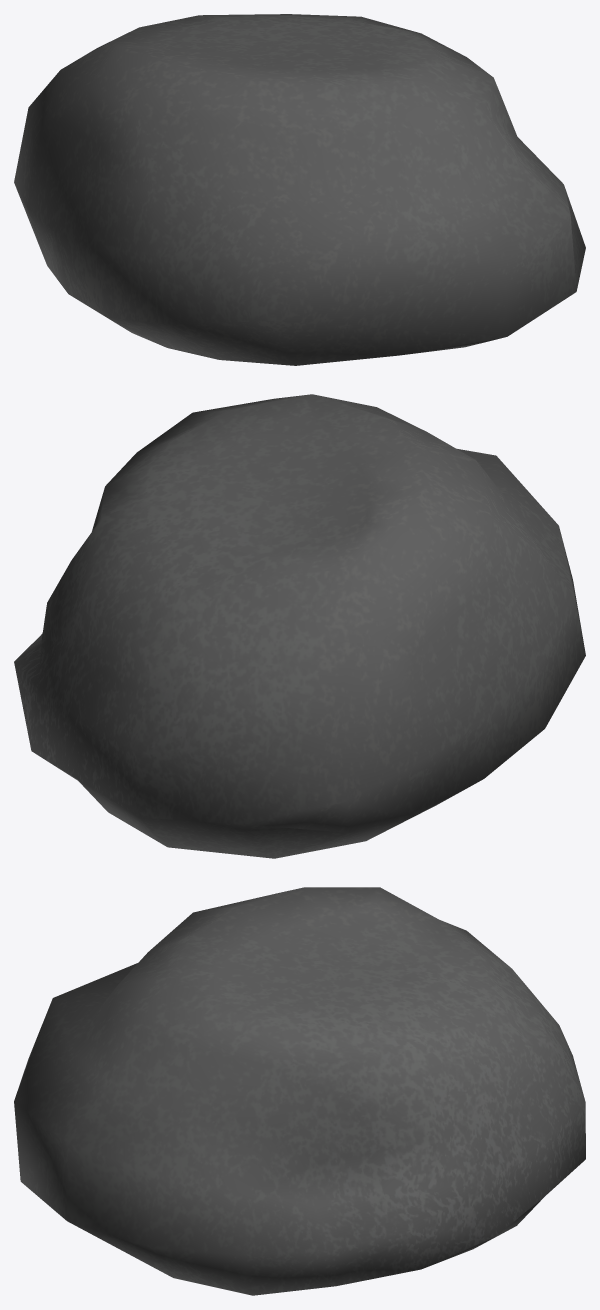
File: Rock4.fbx
3 renders of one model, top to bottom at view 1: azimuth 30°, elevation 25°; view 2: azimuth 150°, elevation 25°; view 3: azimuth 270°, elevation 25°, orthographic. The views are drawn at different scales.
Parts seen in each view (by area): view 1: SM_Big_Rock_02:Mesh; view 2: SM_Big_Rock_02:Mesh; view 3: SM_Big_Rock_02:Mesh.
Boxes of the visible parts, x1=… form: SM_Big_Rock_02:Mesh: x1=14, y1=14, x2=585, y2=365; SM_Big_Rock_02:Mesh: x1=14, y1=394, x2=585, y2=858; SM_Big_Rock_02:Mesh: x1=14, y1=887, x2=585, y2=1295.
Bounding box in the file's own units: 15.54 × 9.71 × 18.33.
1 material, 1 textured.
